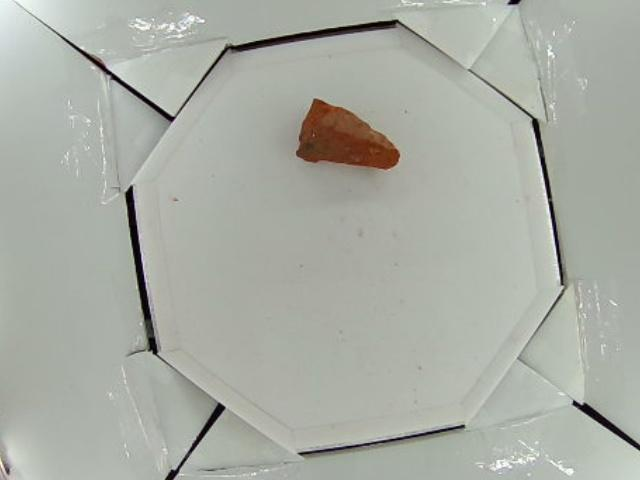Brisk: (296, 97, 401, 171)
